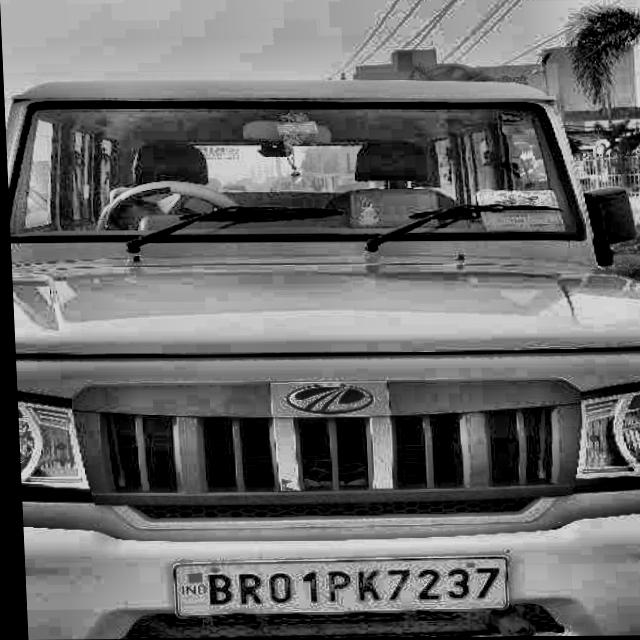light_vehicle: (2, 66, 640, 640)
